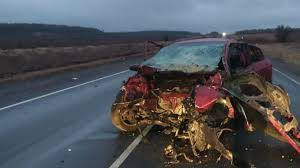car: (104, 27, 292, 154)
